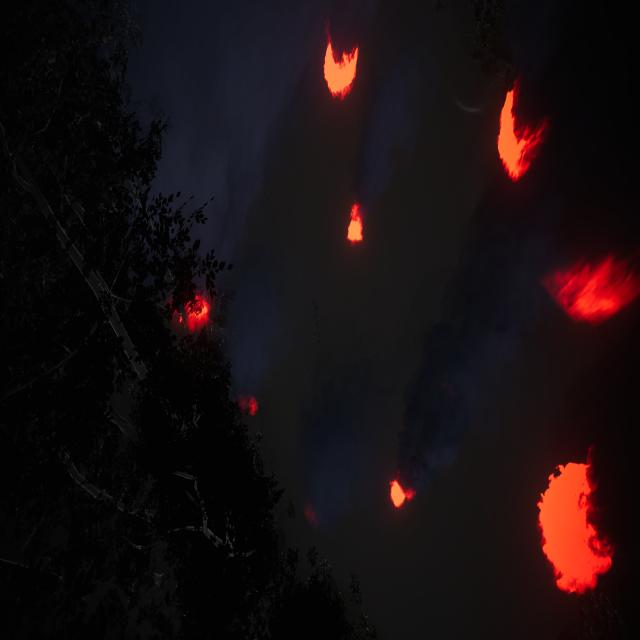Human: (306, 287, 329, 360)
